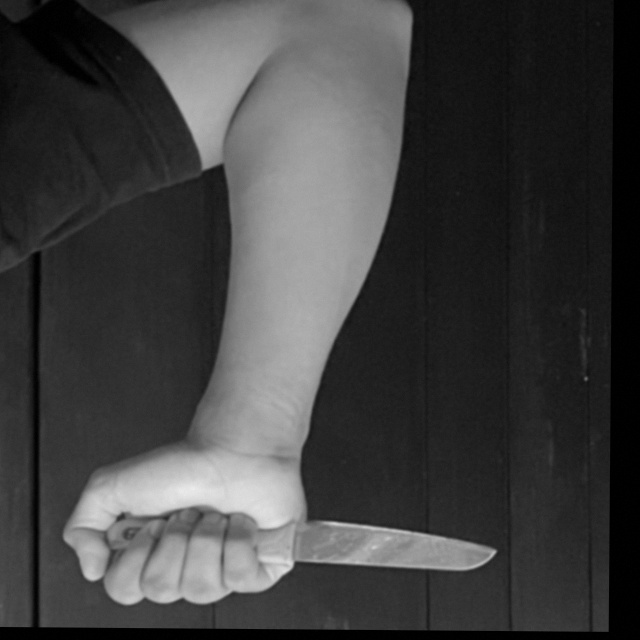Sharp-Object: (98, 512, 499, 575)
